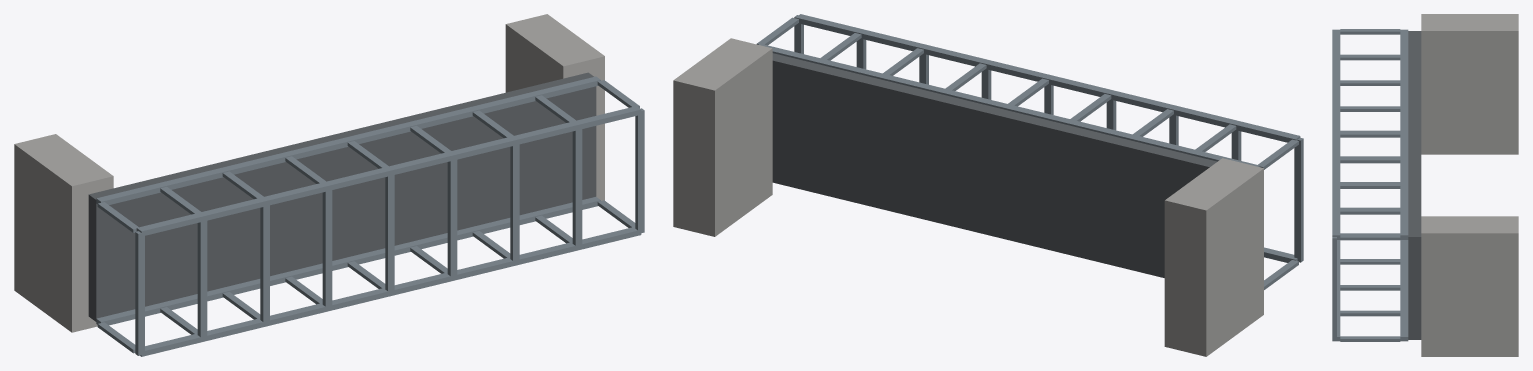
Rendered from bridge_truss.glb.
3 renders of one model, left to right at view 1: azimuth 30°, elevation 25°; view 2: azimuth 150°, elevation 25°; view 3: azimuth 270°, elevation 25°, orthographic. The views are drawn at different scales.
Size of the model in its own units: 32 by 8.4 by 11.5.
